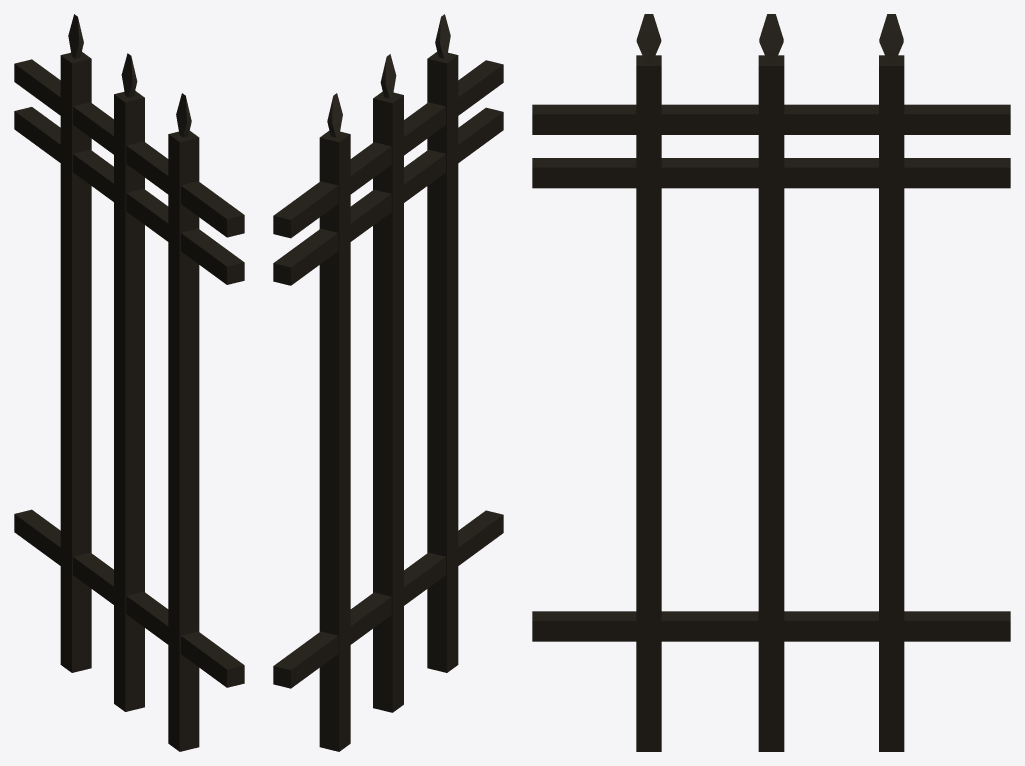
File: Model_Undead_FenceBody.fbx
The picture shows the model from 3 angles, left to right: view 1: azimuth 30°, elevation 25°; view 2: azimuth 150°, elevation 25°; view 3: azimuth 270°, elevation 25°; orthographic projection. The views are drawn at different scales.
Visible parts, largest first — view 1: Model_Frost_Fence1; view 2: Model_Frost_Fence1; view 3: Model_Frost_Fence1.
Part boxes in pixels (x1,y1,x2,y2): Model_Frost_Fence1: (14,14,244,751); Model_Frost_Fence1: (273,14,503,751); Model_Frost_Fence1: (532,14,1010,751).
Size of the model in its own units: 10.79 by 343 by 203.
